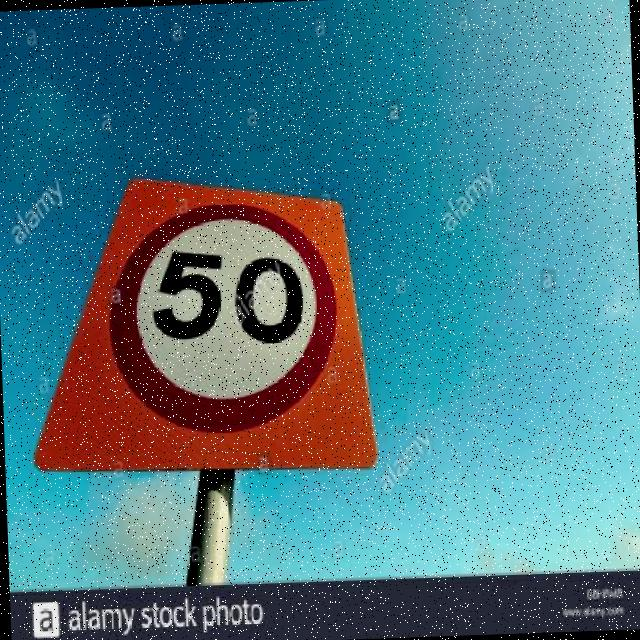Ograniczenie predkosci do 50: (104, 195, 341, 443)
